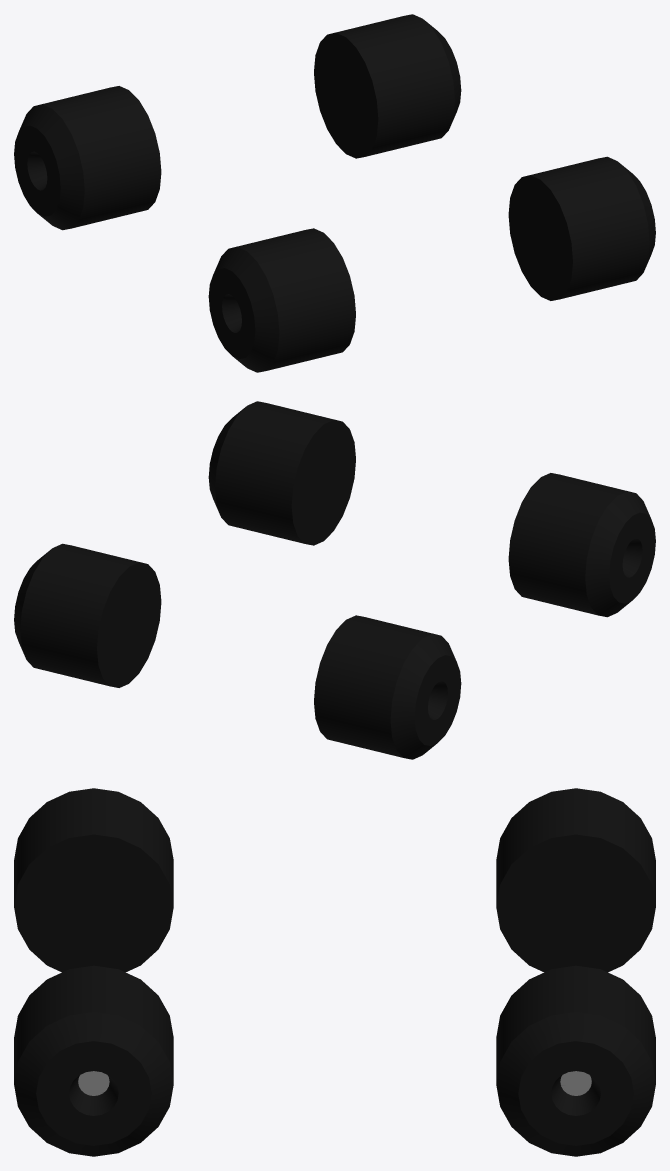
The model's file is ROUND-WHEELS-hZ2BLYMZ.glb.
3 views of the same model, one above another, from view 1: azimuth 30°, elevation 25°; view 2: azimuth 150°, elevation 25°; view 3: azimuth 270°, elevation 25° (orthographic). The views are drawn at different scales.
Bounding box in the file's own units: 1.79 × 0.4982 × 2.
Materials: 1 (1 with a texture image).
